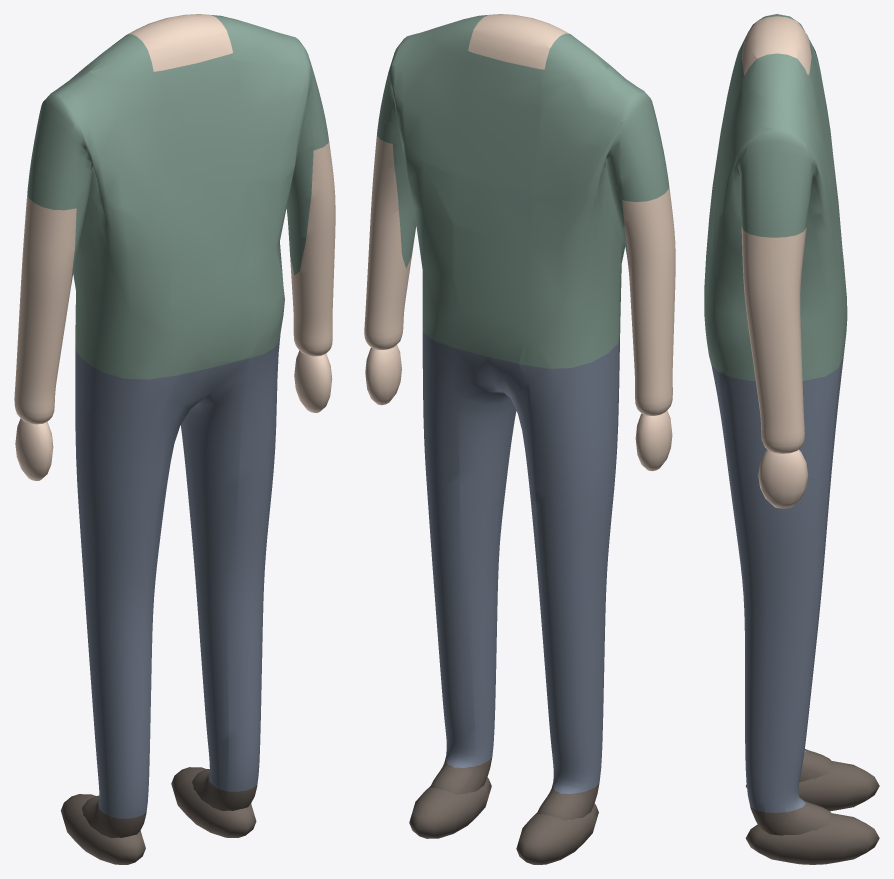
Rendered from gente.cuerpo_nino.fbx.
3 renders of one model, left to right at view 1: azimuth 30°, elevation 25°; view 2: azimuth 150°, elevation 25°; view 3: azimuth 270°, elevation 25°, orthographic. The views are drawn at different scales.
Visible parts, largest first — view 1: Cuerpo, Zapato.001, Zapato, Mano.001, Mano; view 2: Cuerpo, Zapato, Zapato.001, Mano.001, Mano; view 3: Cuerpo, Zapato, Zapato.001, Mano.
Boxes of the visible parts, bbox=[...] form: Cuerpo: bbox=[14, 14, 335, 837]; Zapato.001: bbox=[60, 794, 145, 864]; Zapato: bbox=[171, 767, 256, 837]; Mano.001: bbox=[15, 418, 53, 480]; Mano: bbox=[294, 350, 332, 412]; Cuerpo: bbox=[364, 14, 675, 820]; Zapato: bbox=[409, 777, 491, 838]; Zapato.001: bbox=[516, 804, 598, 864]; Mano.001: bbox=[635, 410, 672, 471]; Mano: bbox=[365, 345, 401, 405]; Cuerpo: bbox=[704, 14, 847, 835]; Zapato: bbox=[745, 813, 879, 864]; Zapato.001: bbox=[746, 761, 879, 811]; Mano: bbox=[758, 449, 808, 508].
Size of the model in its own units: 0.5904 by 1.51 by 0.2983.
